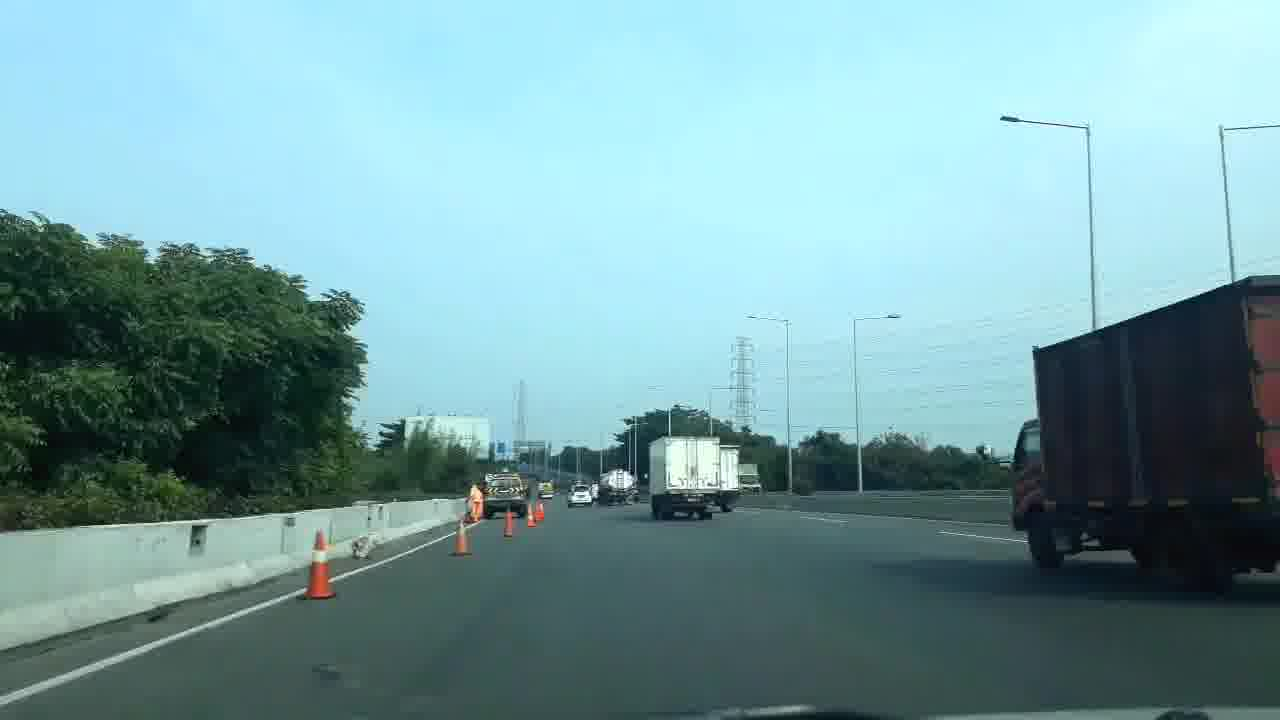plate_positive: (687, 497, 702, 502)
